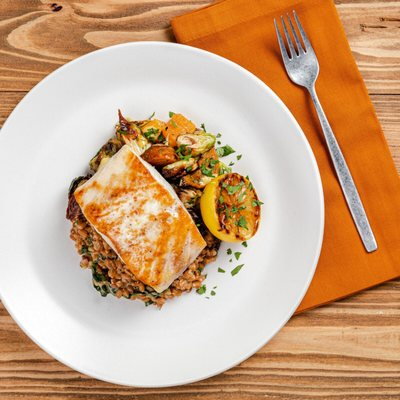burger: (273, 9, 382, 265)
soup: (66, 144, 212, 309)
